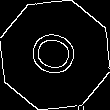O_E: (24, 27, 86, 83)
